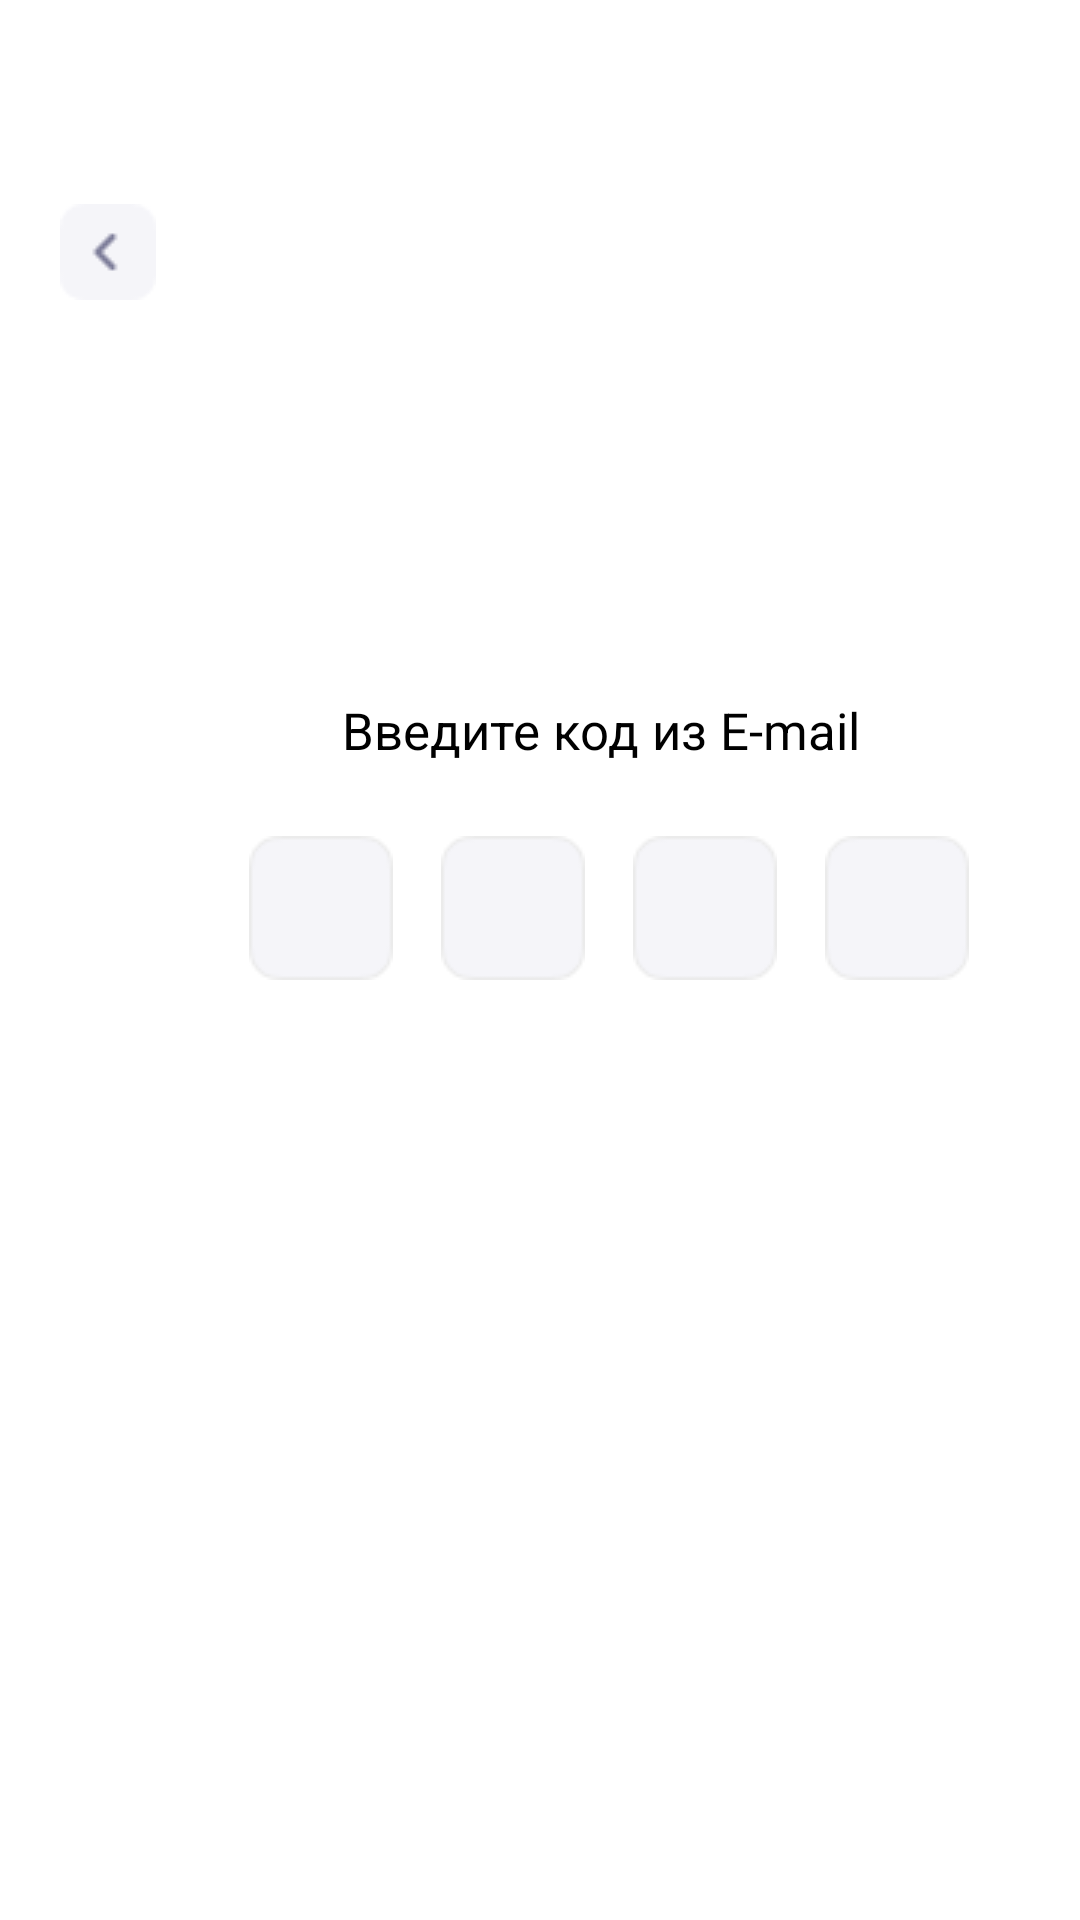

Named icons in this screenshot (1080px x 1920px) and their bounding boxes, [x1, y1, x2, y2]:
back: [92, 233, 118, 271]
